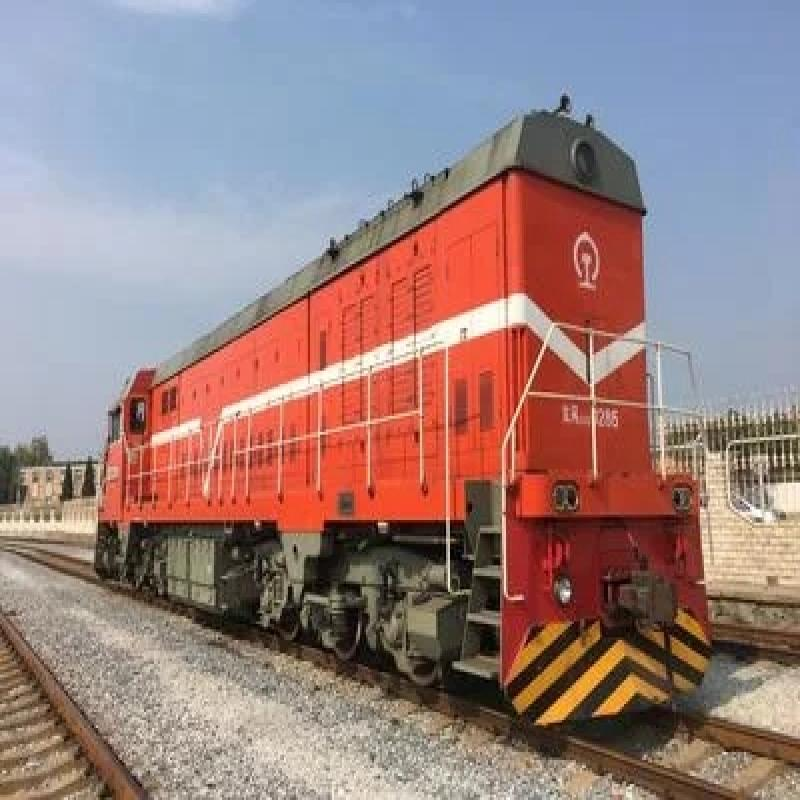train: (93, 84, 701, 756)
